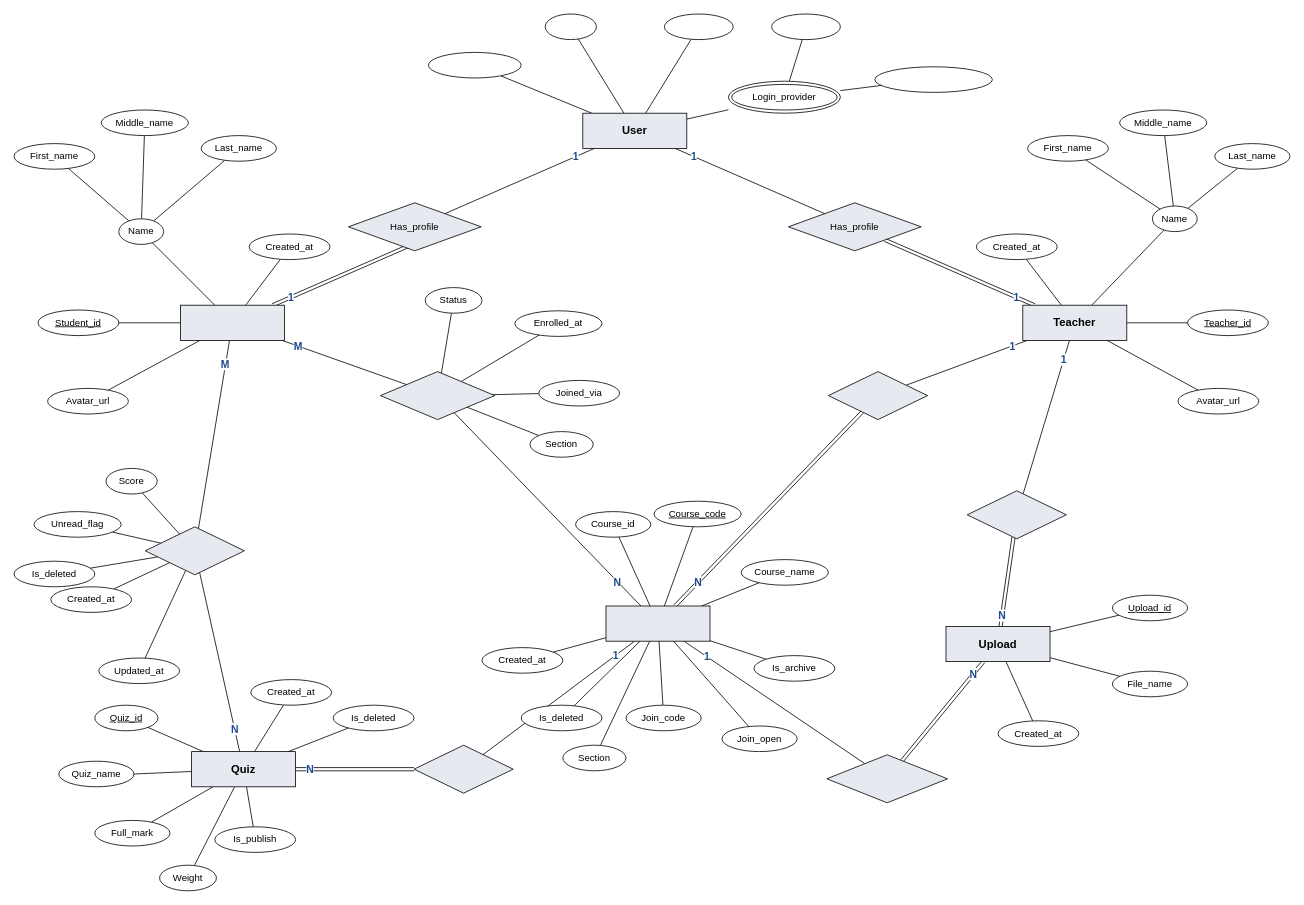
Image size: 1304x905. Some labels were removed from this diagram. Each missing label, with the box of its shape:
Auth_user_id: (428, 52, 521, 78)
Course: (605, 605, 710, 641)
Email: (544, 13, 596, 40)
Enroll: (380, 371, 495, 420)
Get_score: (144, 526, 244, 575)
Has: (413, 744, 513, 793)
Password: (664, 13, 733, 40)
Provider: (771, 13, 840, 40)
Provider_user_id: (874, 66, 992, 92)
Student: (180, 304, 284, 340)
Teachs: (828, 371, 928, 420)
Uploaded_to: (826, 754, 948, 803)
Uploads: (966, 490, 1066, 539)
